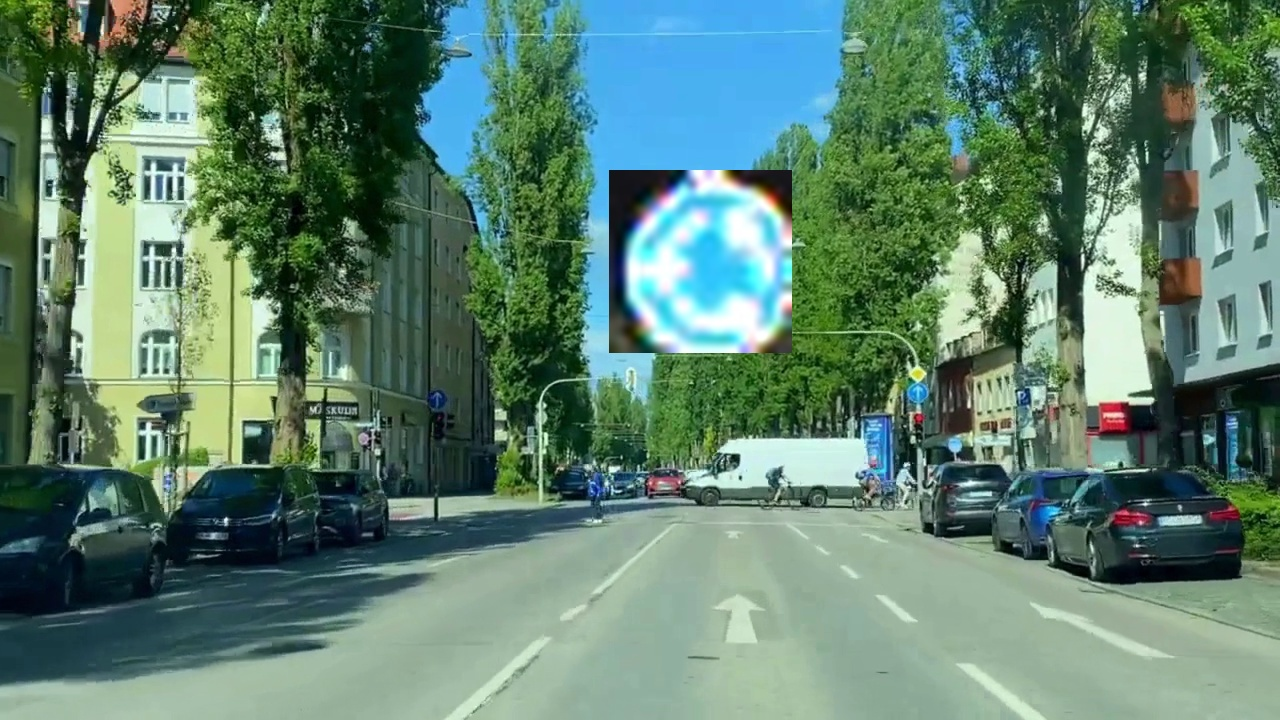Roundabout: (609, 170, 792, 353)
